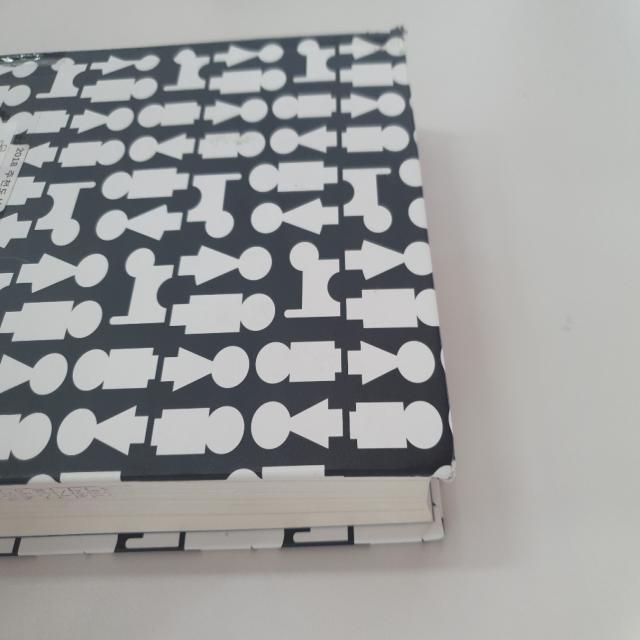Ripped: (360, 21, 411, 44)
Wornout: (432, 421, 461, 488)
